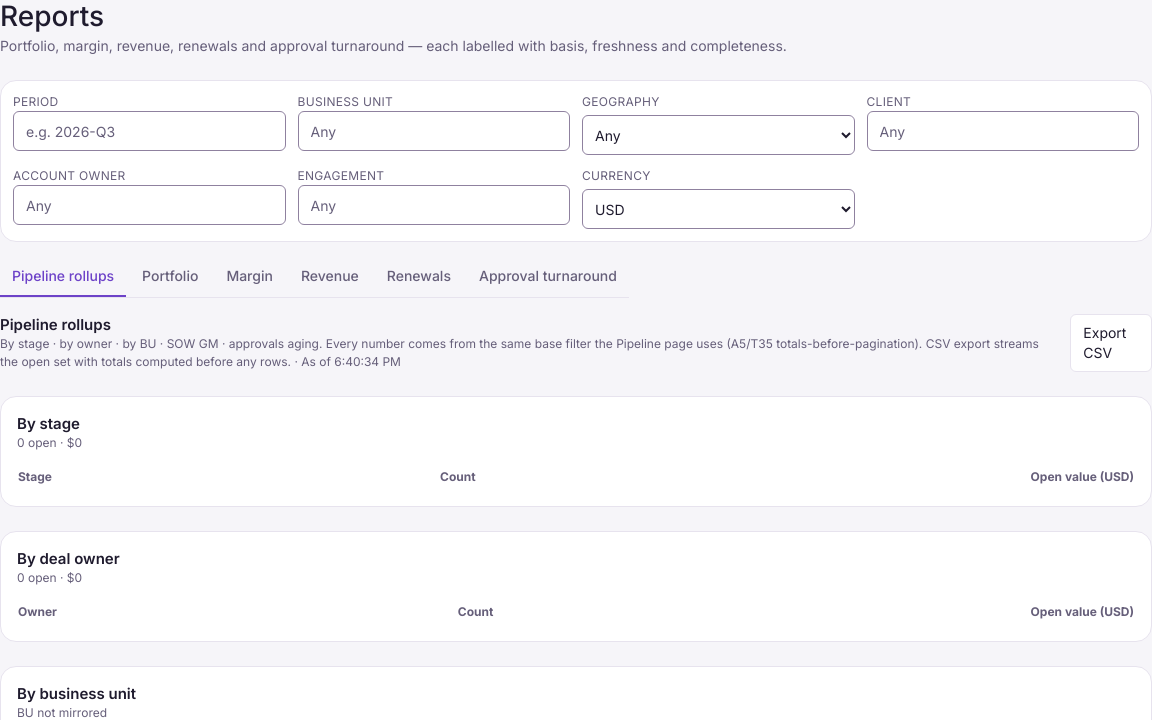
ReportsPage › does not relabel forecast or actual gross profit as revenue
Click the tab with test id "tab-revenue".
click(330, 278)  # box [289,258,371,297]
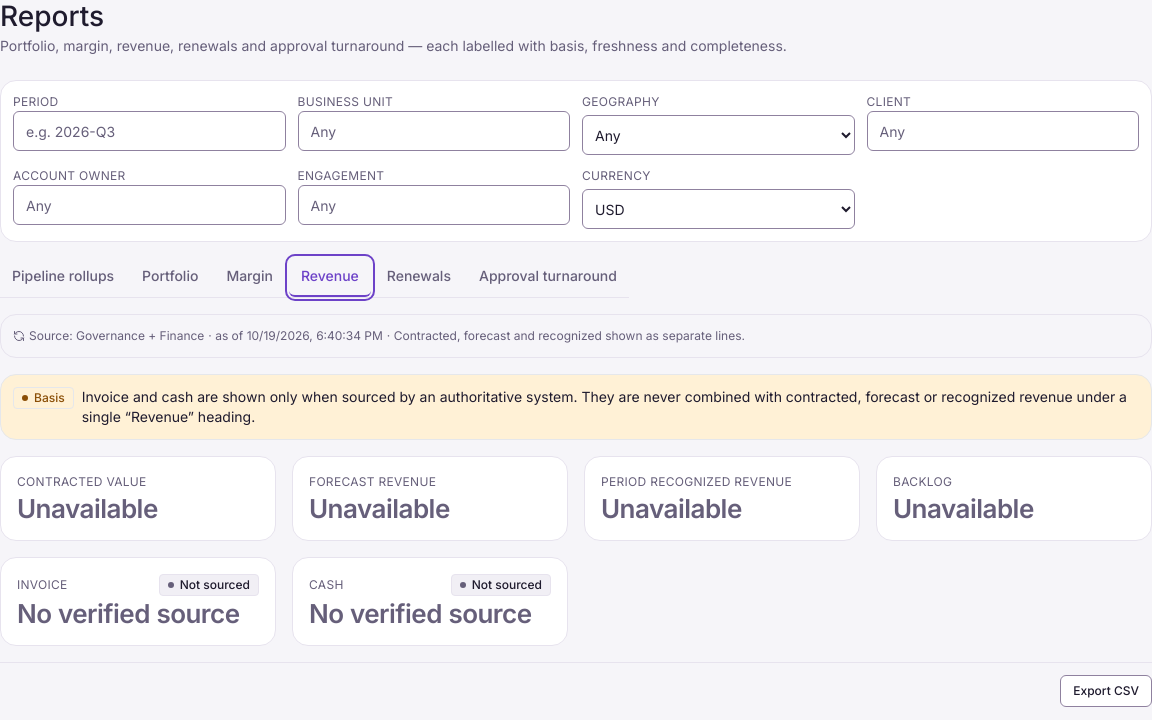
Now the text "Unavailable" is shown 4 times, box [17,493,158,524]; [309,493,450,524]; [601,493,742,524]; [893,493,1034,524]
Now the text "Not sourced" is shown 2 times, box [180,579,250,591]; [472,579,542,591]
